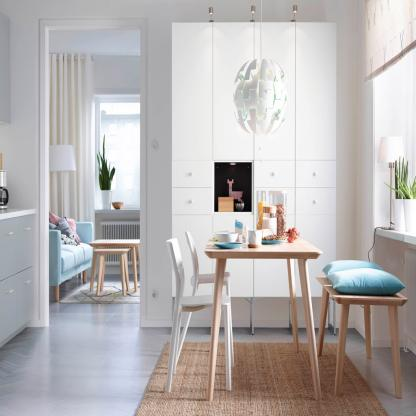Chair: (165, 236, 234, 396)
Table: (205, 223, 324, 402)
